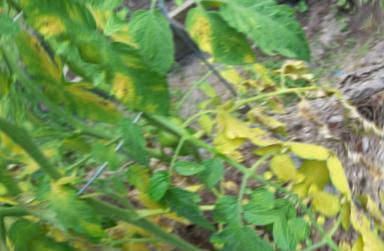Tomato leaf yellow virus: (77, 19, 202, 138), (193, 0, 345, 88), (160, 0, 264, 89), (30, 167, 123, 251), (181, 180, 275, 251)
